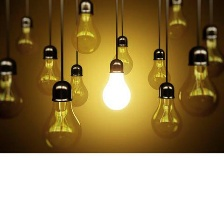light_bulb: (175, 58, 223, 119), (40, 94, 84, 153), (148, 93, 185, 141), (68, 9, 103, 57), (99, 68, 133, 113), (0, 68, 27, 122), (195, 30, 223, 80), (34, 55, 65, 95), (144, 51, 173, 93), (163, 2, 190, 40), (63, 73, 91, 108), (109, 42, 135, 76), (13, 22, 37, 55)
